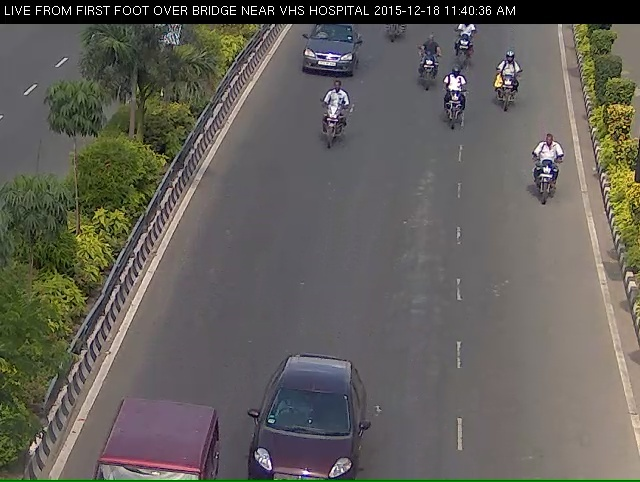Car: (237, 378, 381, 479), (294, 19, 361, 86)
Person: (526, 135, 568, 220), (311, 93, 350, 162), (496, 56, 527, 118), (445, 75, 469, 134), (416, 42, 439, 101), (454, 23, 476, 72)
